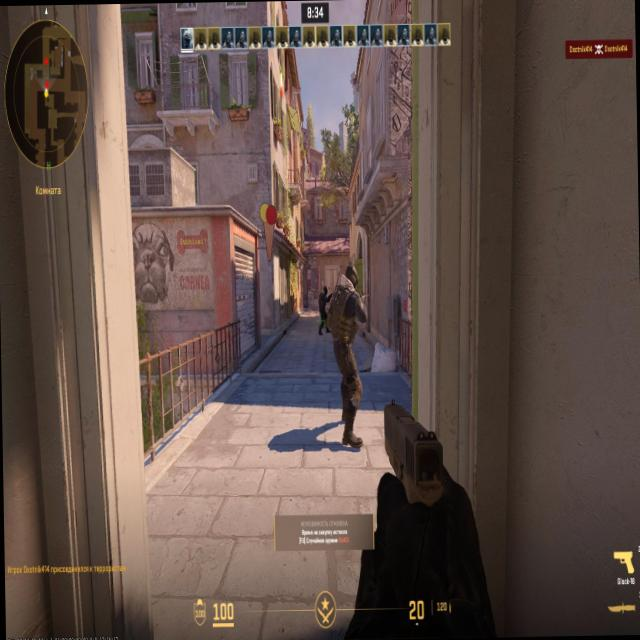CT: (340, 267, 361, 415), (316, 290, 328, 326)
CT_heat: (346, 268, 353, 285), (318, 293, 324, 300)
